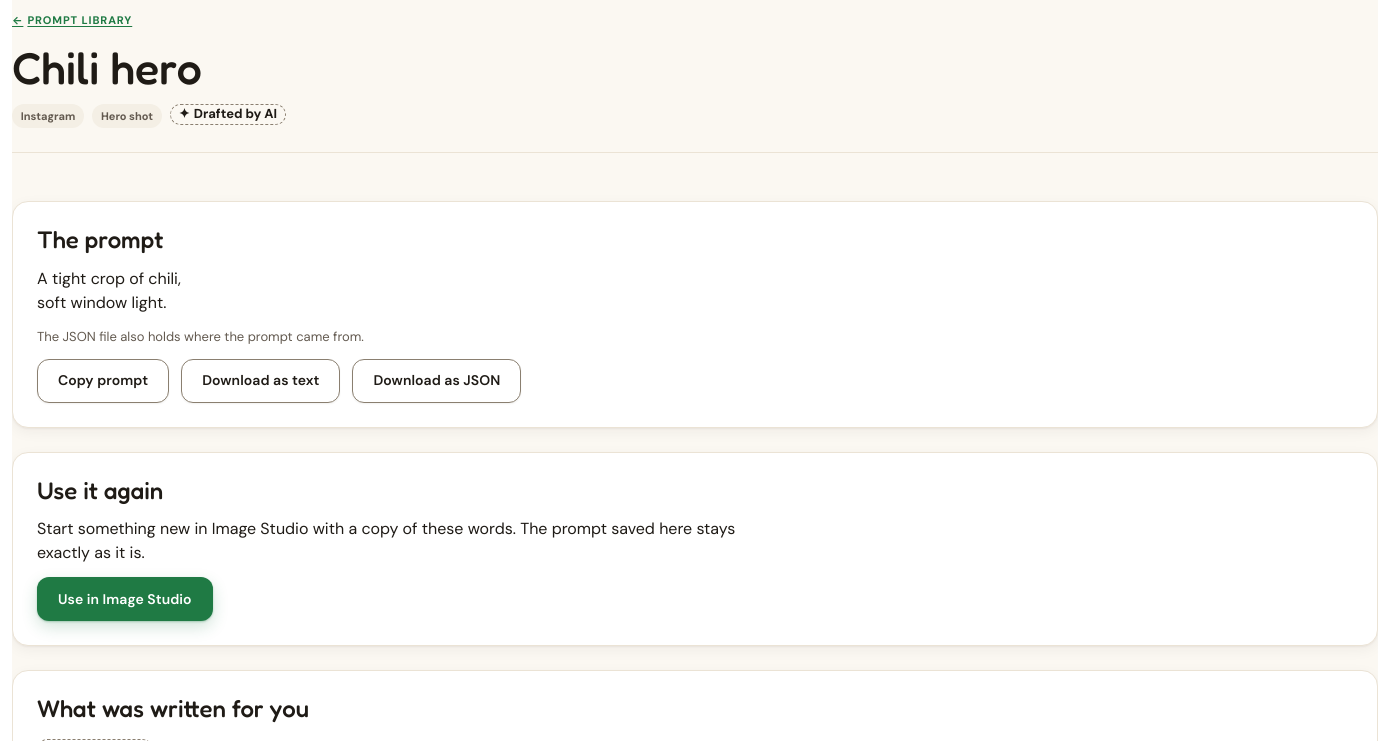
Test case: PromptDetailComponent › says so when the prompt can no longer be used as a source
The width and height of the screenshot is (1378, 741).
Click the button "Use in Image Studio": {"x": 125, "y": 599} 37,577 -> 213,621
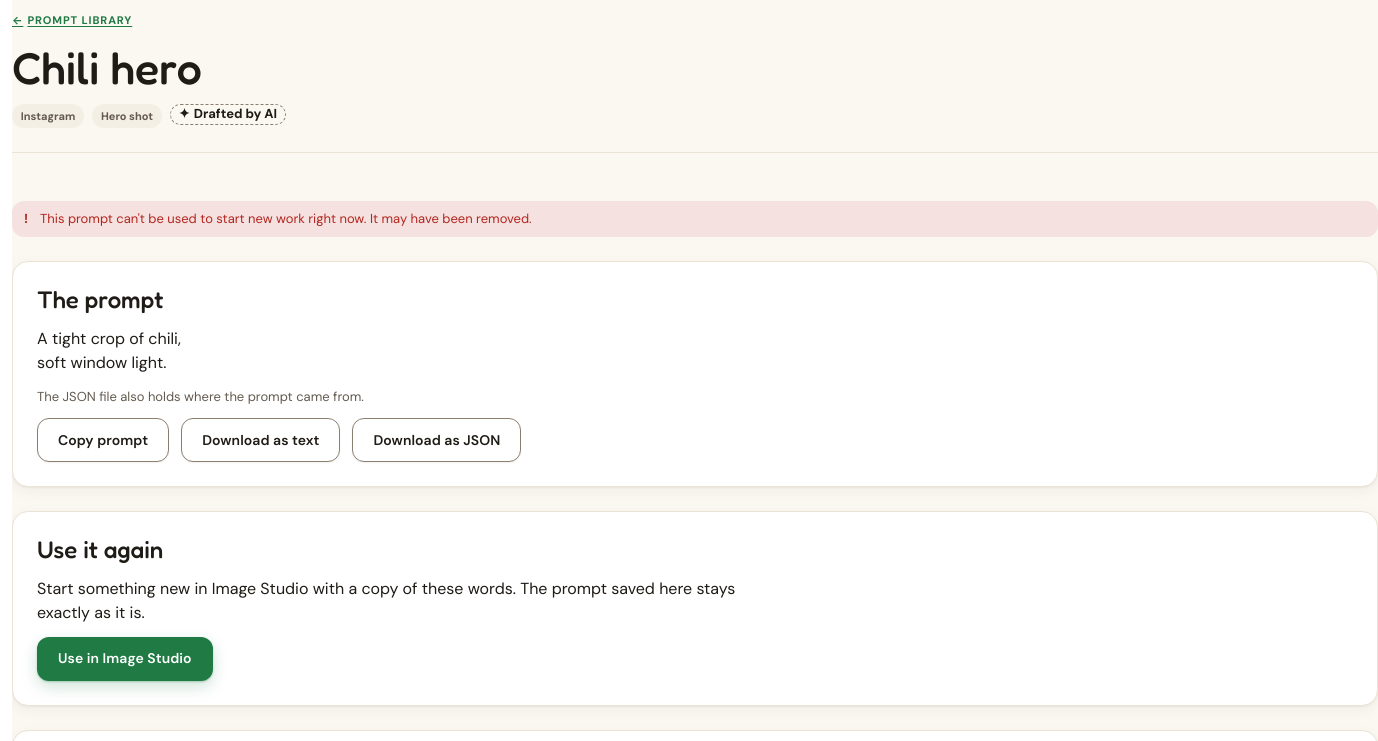
Result: the text "can't be used to start new work" is shown at 40,210 -> 532,227
